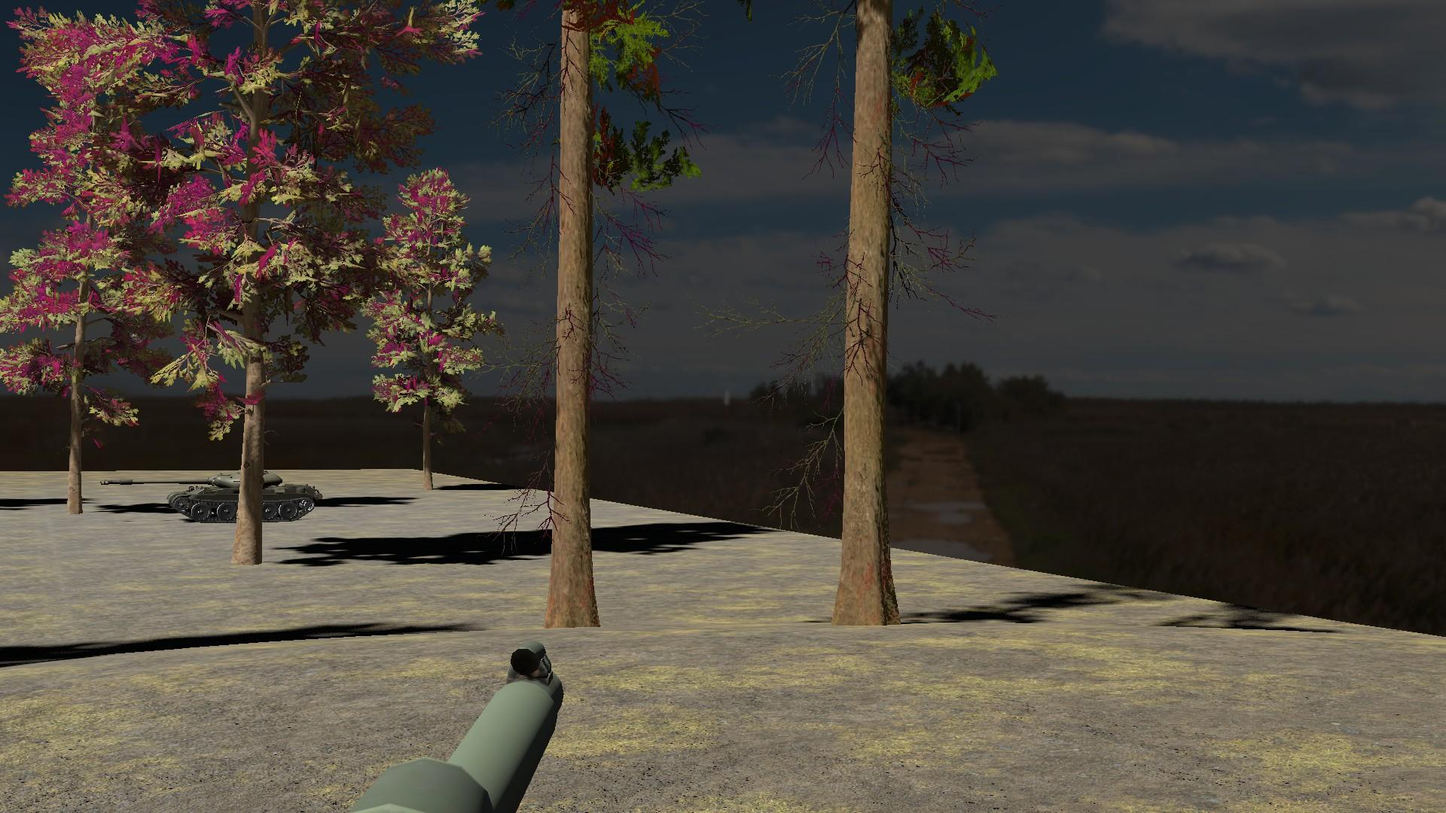Tank: (89, 458, 330, 529)
